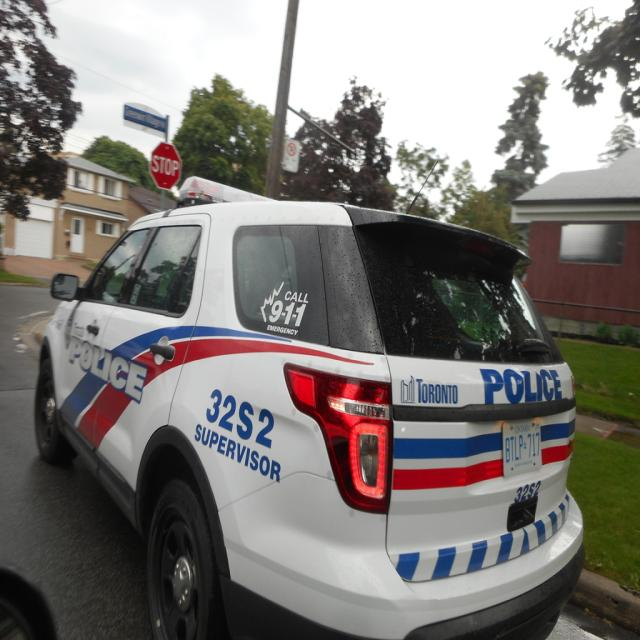Stop-sign: (148, 141, 182, 193)
